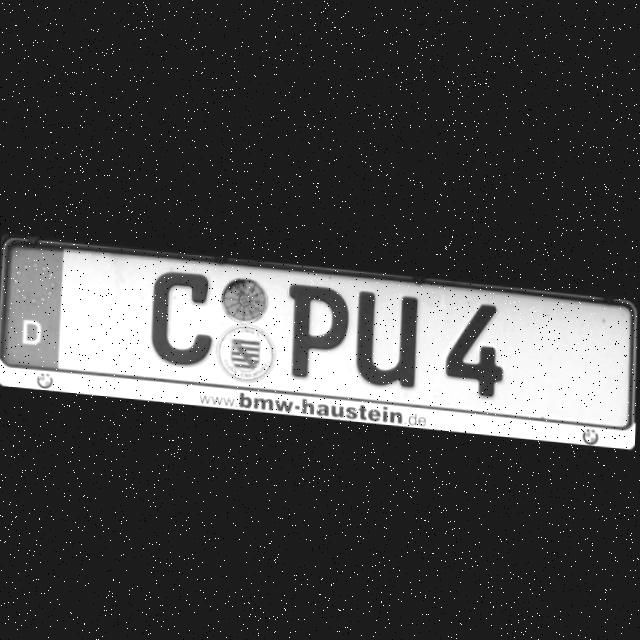license-plates: (1, 245, 636, 429), (2, 244, 62, 370)
